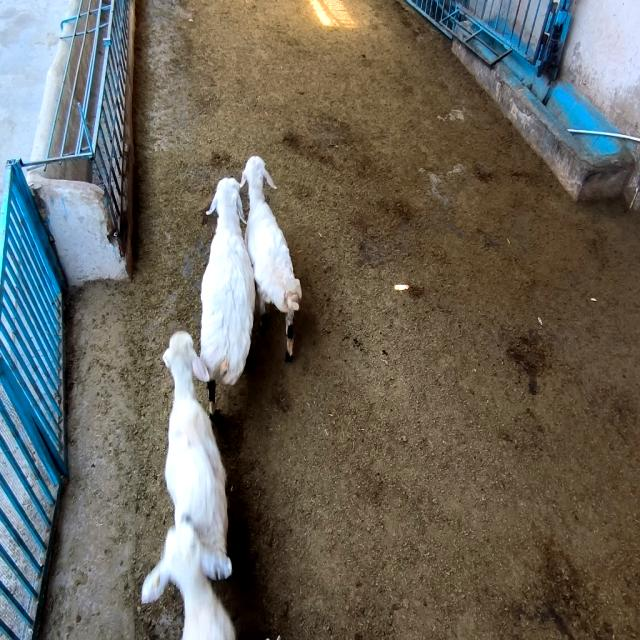sheep: (164, 332, 231, 578), (240, 157, 301, 361), (200, 178, 255, 385), (141, 520, 235, 640)
